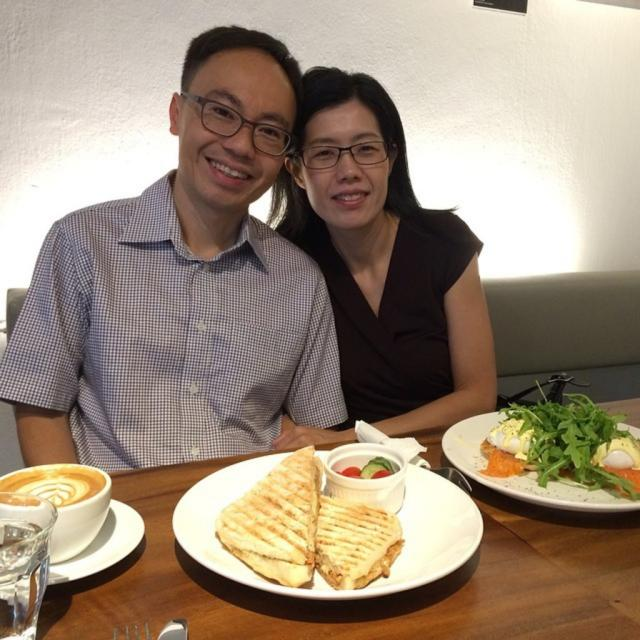Coffee: (23, 475, 109, 587)
